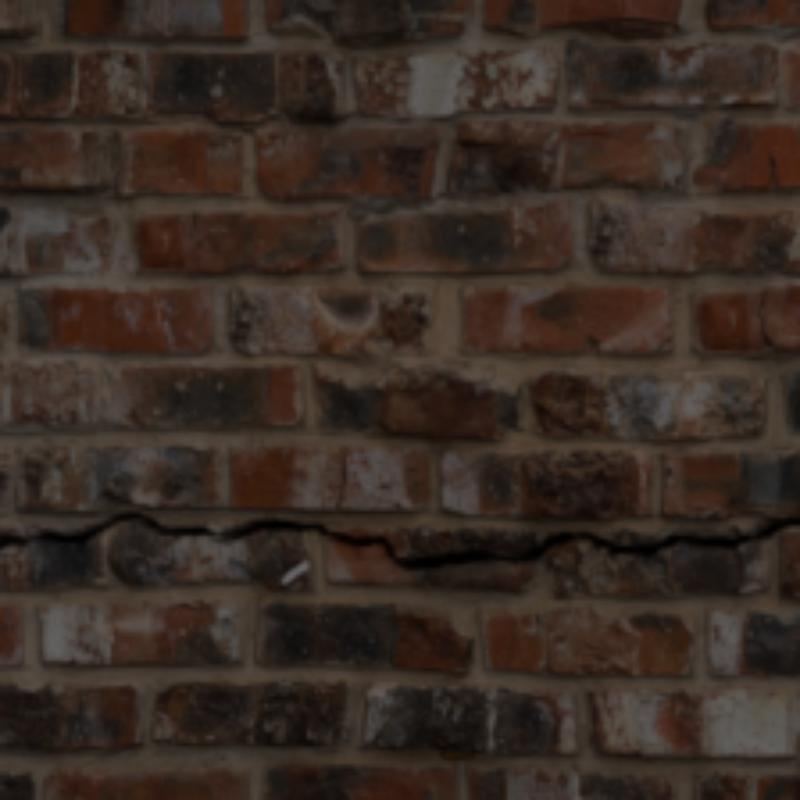pothole: (0, 511, 796, 568), (336, 450, 346, 504), (761, 293, 771, 346)
